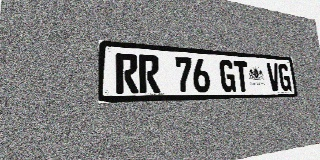6: (192, 58, 211, 92)
7: (174, 57, 194, 93)
G: (219, 60, 236, 92), (278, 64, 292, 91)
R: (115, 53, 139, 94), (138, 54, 160, 93)
T: (233, 61, 250, 92)
V: (266, 63, 281, 91)
